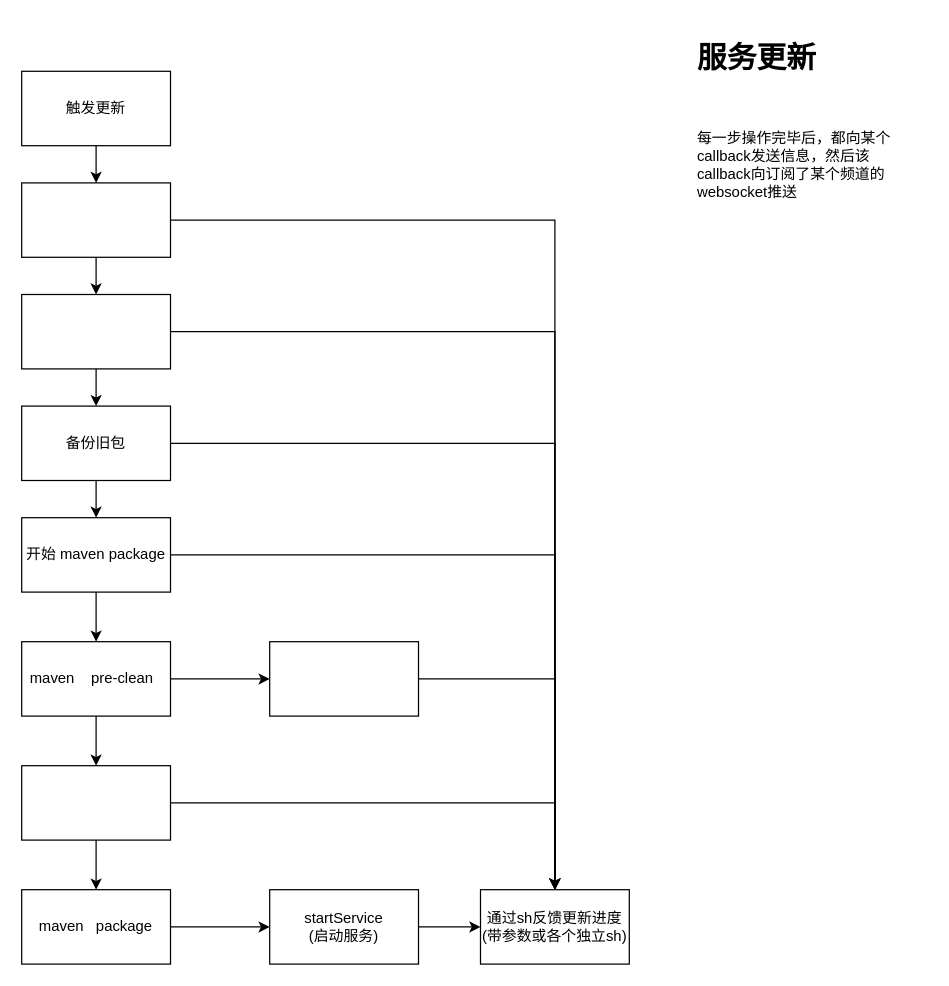
The diagram is 949 pixels wide and 986 high, and some of its shapes have lost their labels. Each missing label, with the centre of its shape:
"maven after-compile" goes at (x=95, y=802).
"shutdownService (销毁服务)" goes at (x=343, y=678).
"切换分支" goes at (x=95, y=219).
"更新代码" goes at (x=95, y=331).
